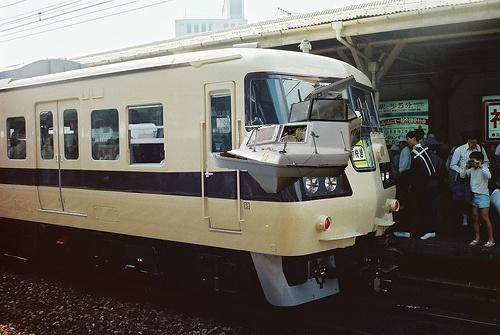tampered: (213, 76, 362, 193)
